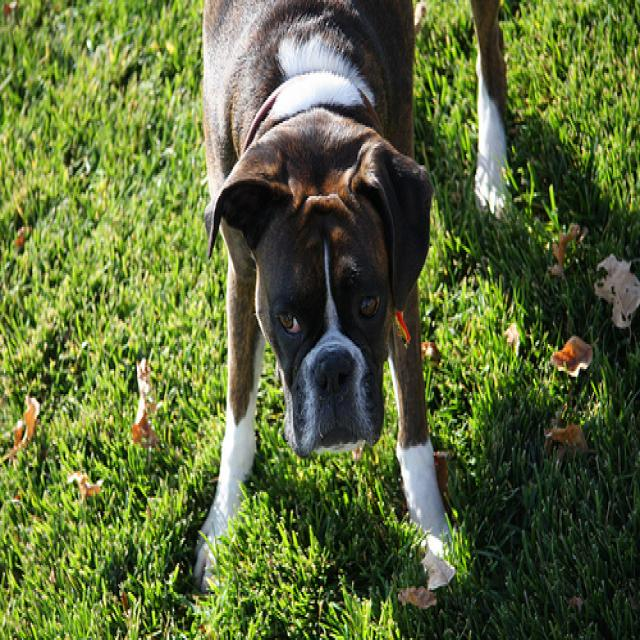dog-boxer: (188, 2, 456, 582)
